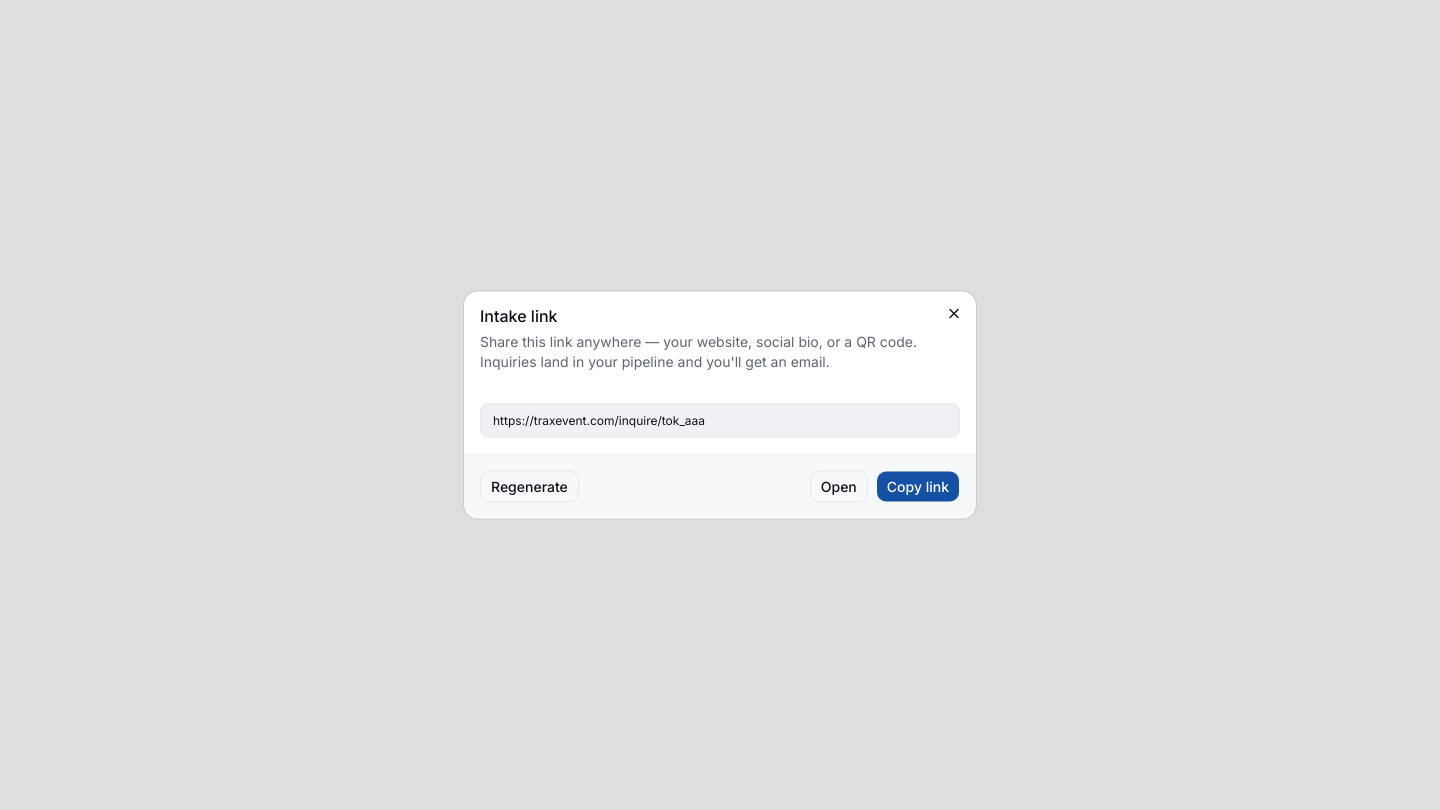
Test: IntakeLinkCard › reports a failed regenerate inside the confirm dialog the operator is looking at
Expected: the text "https://traxevent.com/inquire/tok_aaa" is shown, [480,404,960,438]
Step 1. Click the button "Regenerate" → (529, 486), box [480,470,579,502]
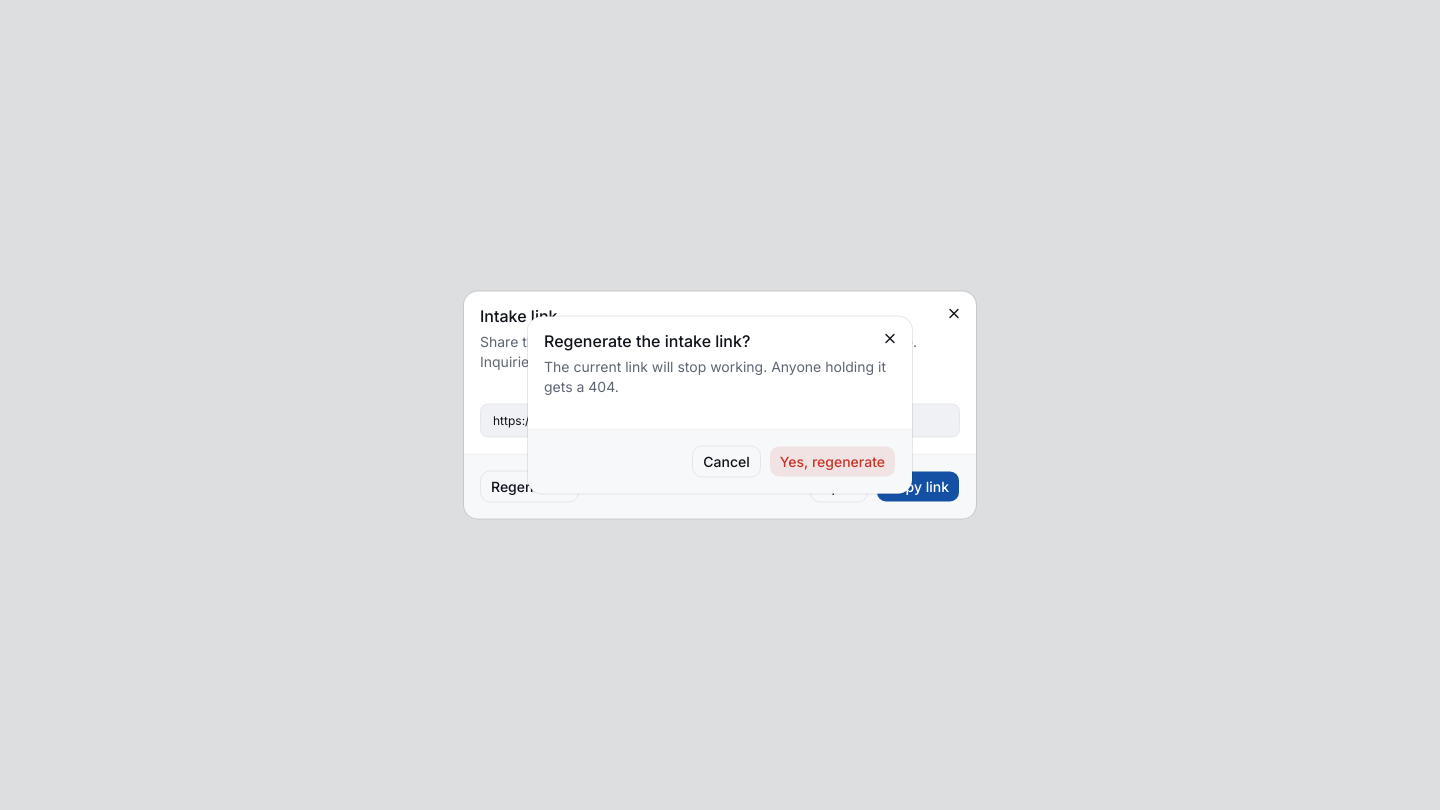
Step 2. Click the button "Yes, regenerate" → (832, 462), box [769,446,896,478]
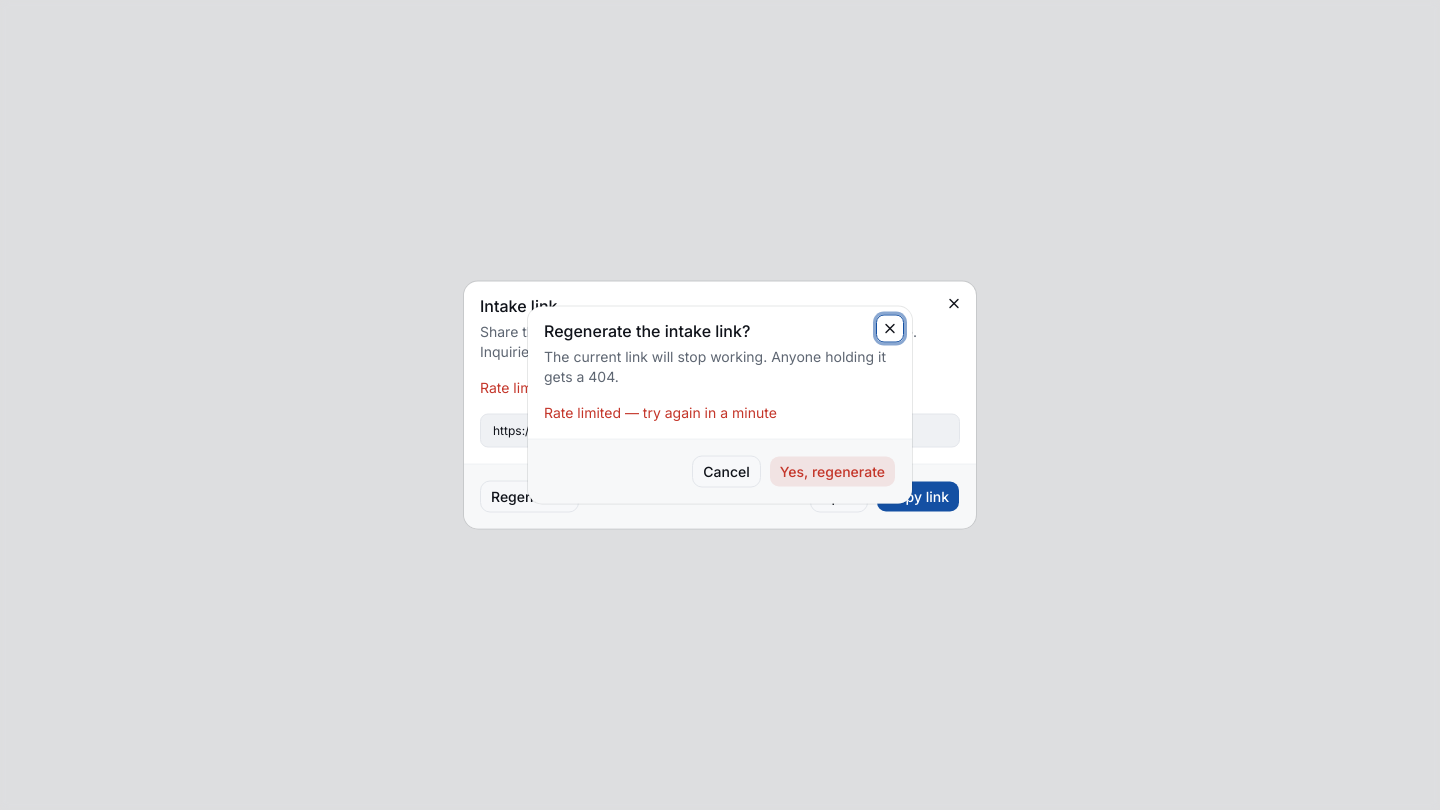
Now the button "Yes, regenerate" is enabled, box [769,456,896,488]
Now the text "Rate limited — try again in a minute" is shown, box [544,404,777,420]
